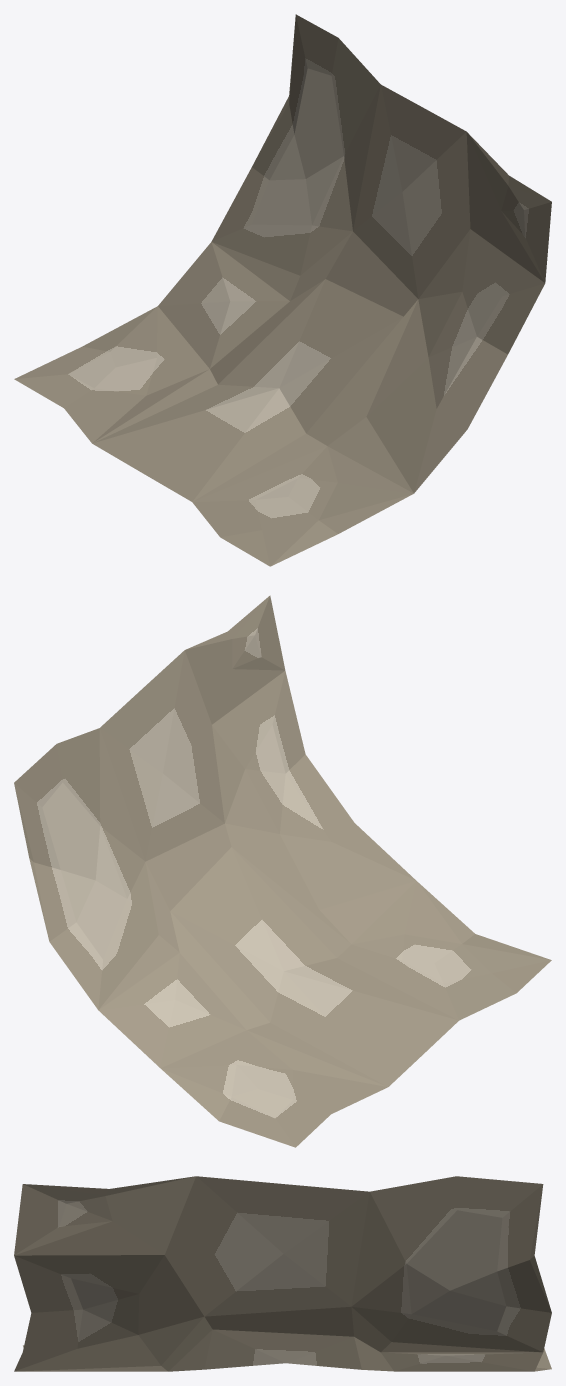
File: StrongArch_01.fbx
3 renders of one model, top to bottom at view 1: azimuth 30°, elevation 25°; view 2: azimuth 150°, elevation 25°; view 3: azimuth 270°, elevation 25°, orthographic.
Parts seen in each view (by area): view 1: StrongArch_01; view 2: StrongArch_01; view 3: StrongArch_01.
Part boxes in pixels (box(x1,y1,x2,y2)): StrongArch_01: box(14, 14, 551, 566); StrongArch_01: box(14, 595, 551, 1147); StrongArch_01: box(14, 1176, 551, 1371).
Size of the model in its own units: 65.2 by 65.5 by 103.
1 material, 1 textured.
